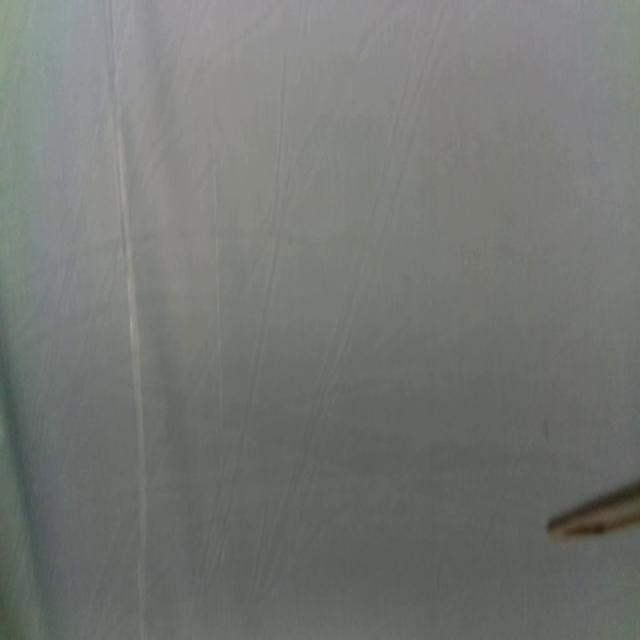crease: (111, 0, 150, 636), (212, 156, 226, 432)
